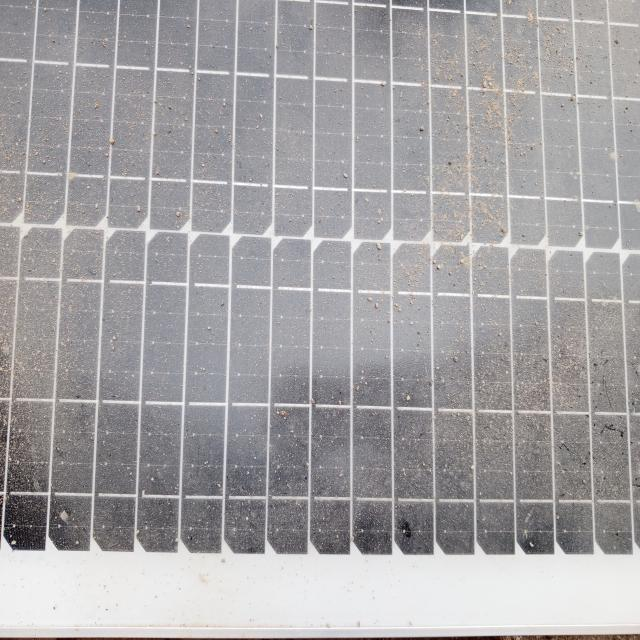Surface Contaminant: (3, 12, 638, 567)
